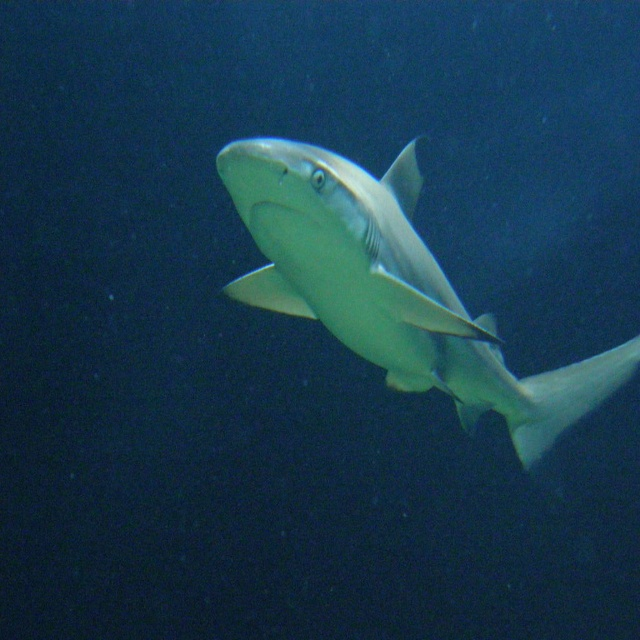Fish: (216, 137, 640, 470)
